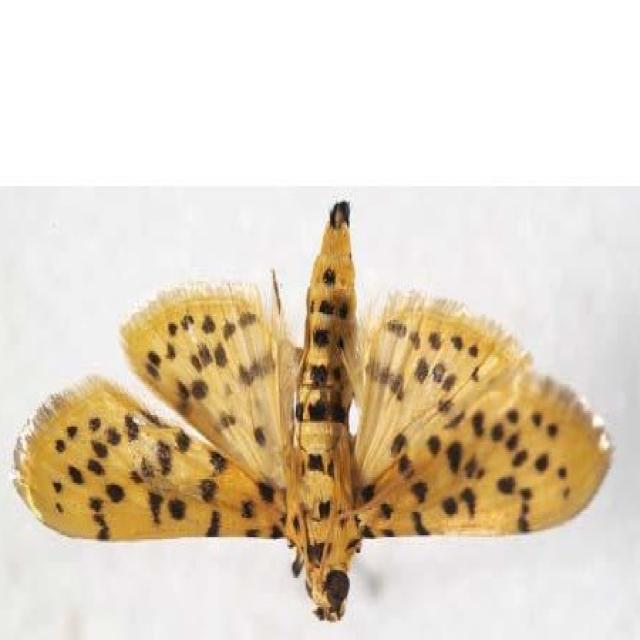peach borer: (9, 197, 619, 627)
